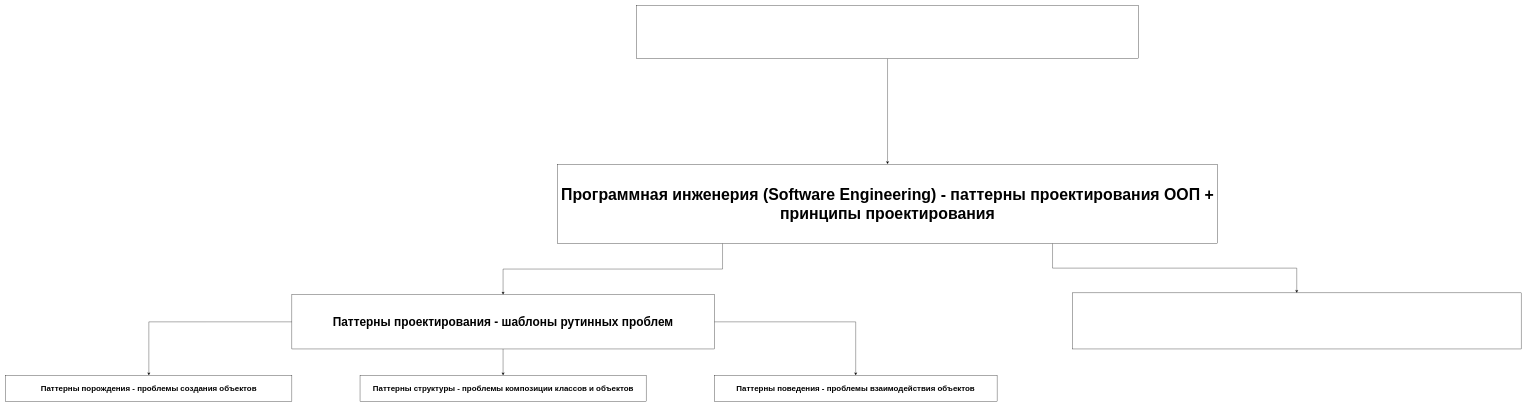
Image size: 1527x408. Some labels were removed from this diagram. The centre of each missing label's shape, as x and y in pixels:
"ГИД по Computer Science" goes at (x=887, y=32).
"Принципы проектирования" goes at (x=1296, y=321).
